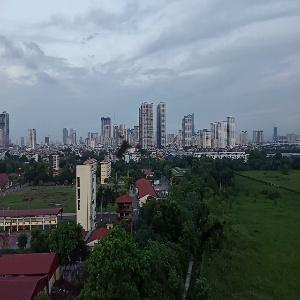drone: (75, 106, 169, 200)
